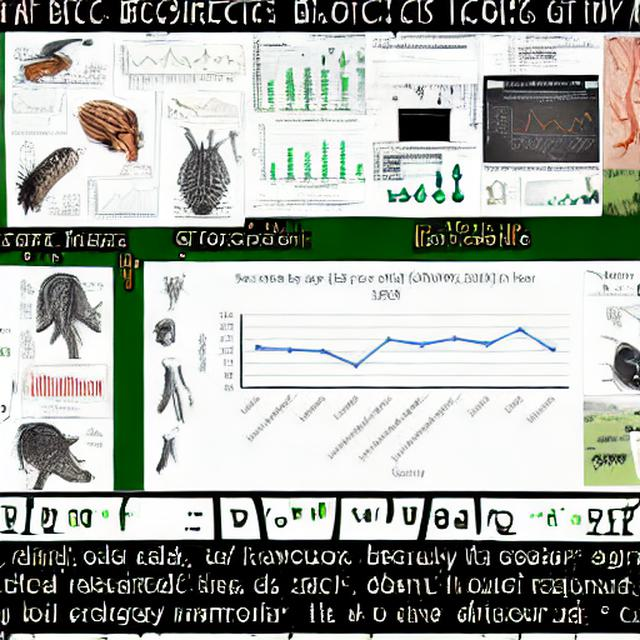Graph: (194, 264, 574, 489), (248, 116, 371, 192), (484, 90, 599, 163), (115, 37, 197, 94), (21, 363, 105, 406), (85, 176, 157, 222), (5, 86, 58, 117)
